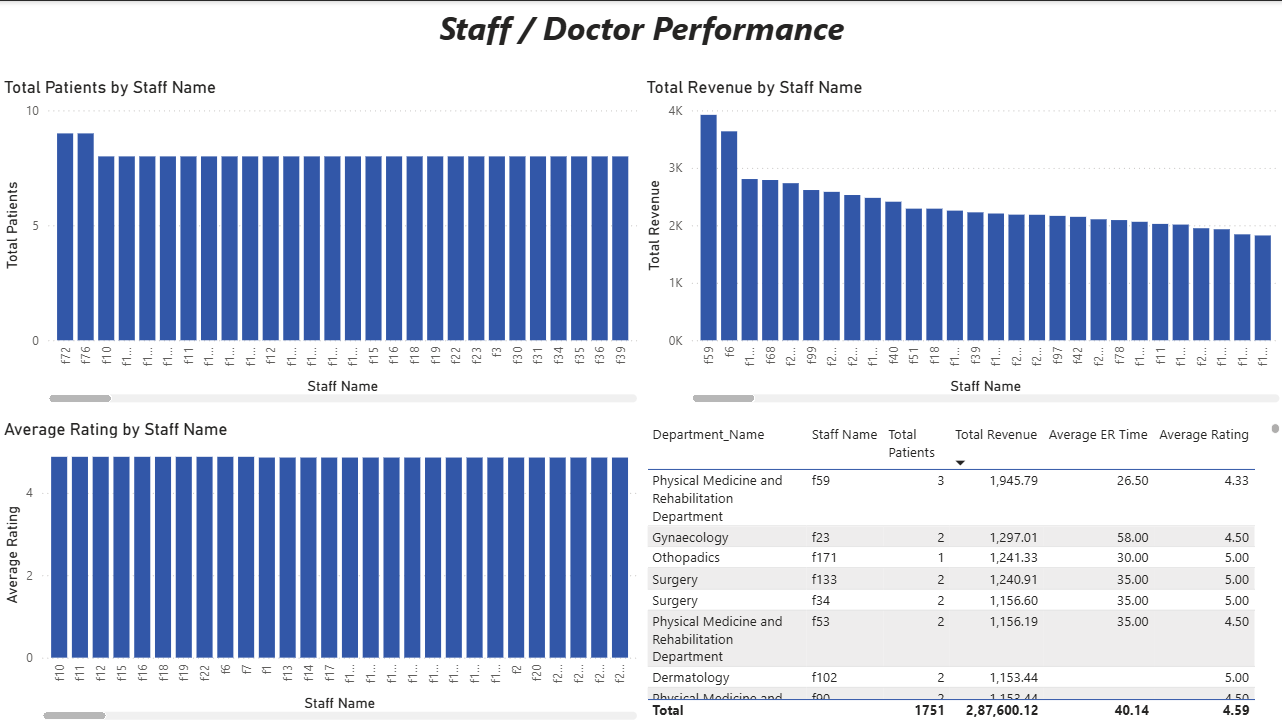

The dashboard page shown, as its layout file describes it:
{"tool":"powerbi","page":{"name":"Staff / Doctor Performance","canvas":[1280,720],"ordinal":2},"visuals":[{"type":"columnChart","fields":{"Y":["Bed_Detail.Total Revenue"],"Category":["Staff_Detail.Staff Name"]},"box":[640,76.2,640,328.8],"z":0},{"type":"columnChart","fields":{"Category":["Staff_Detail.Staff Name"],"Y":["Bed_Detail.Total Patients"]},"box":[0,76.2,640,328.8],"z":1000},{"type":"columnChart","fields":{"Y":["Bed_Detail.Average Rating"],"Category":["Staff_Detail.Staff Name"]},"box":[0,415,640,305],"z":2000},{"type":"tableEx","fields":{"Values":["Department.Department_Name","Staff_Detail.Staff Name","Bed_Detail.Total Patients","Bed_Detail.Total Revenue","Bed_Detail.Average ER Time","Bed_Detail.Average Rating"]},"box":[640,415,640,305],"z":3000},{"type":"textbox","box":[343.8,0,592.5,76.2],"z":4000}]}

Visuals, with their boxes in screenshot pixels (x1, y1, x2, y2), scaled from the page's 1280x720 canvas onto the 1282x722 screenshot:
columnChart - Bed_Detail.Total Revenue x Staff_Detail.Staff Name: rect(641, 76, 1281, 406)
columnChart - Staff_Detail.Staff Name x Bed_Detail.Total Patients: rect(0, 76, 641, 406)
columnChart - Bed_Detail.Average Rating x Staff_Detail.Staff Name: rect(0, 416, 641, 721)
tableEx - Department.Department_Name x Staff_Detail.Staff Name: rect(641, 416, 1281, 721)
textbox: rect(344, 0, 938, 76)
